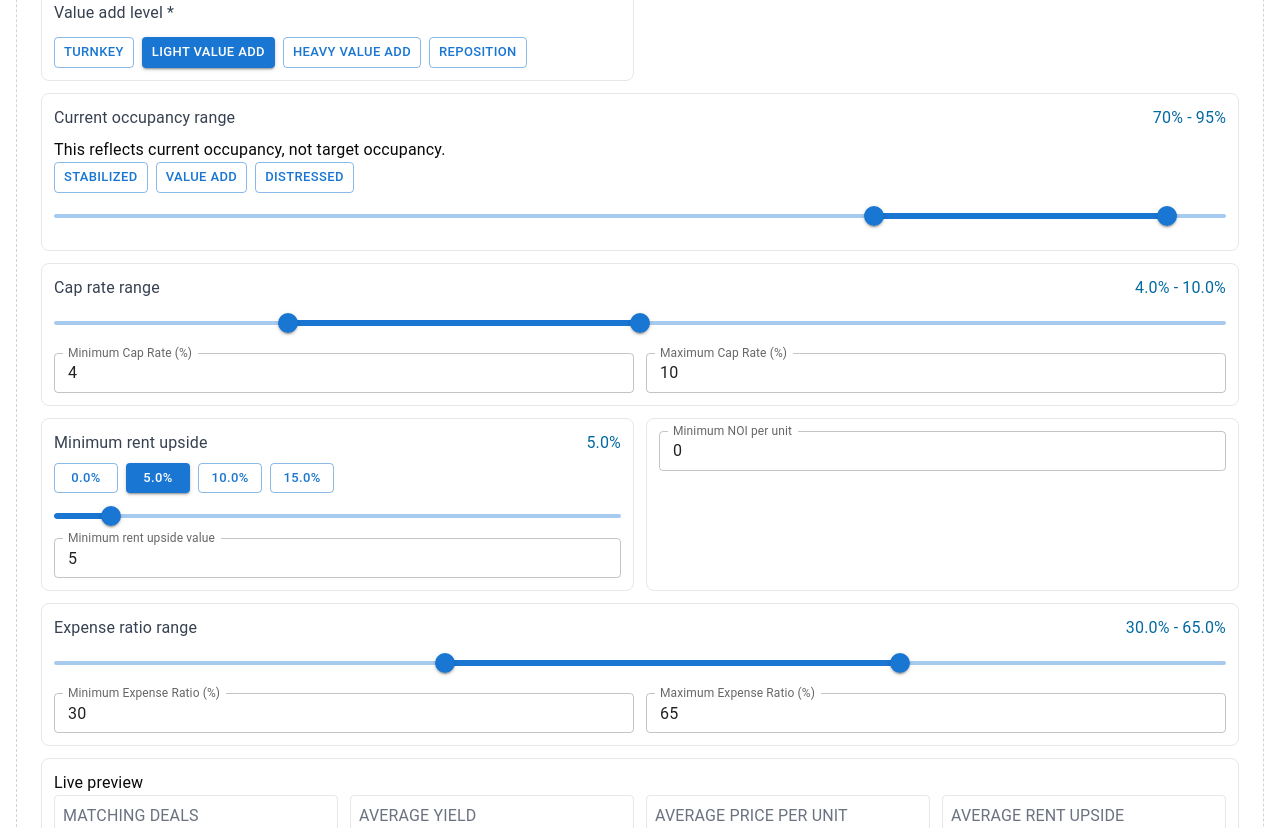
Test case: MultifamilyTabsSkeleton › retains filter values when switching tabs
The width and height of the screenshot is (1280, 828).
(page scrolled)
Replace the text in the number field labelled "Minimum NOI per unit" with "1200". click: point(942, 450)
box: 659,430 -> 1226,470
(page scrolled)
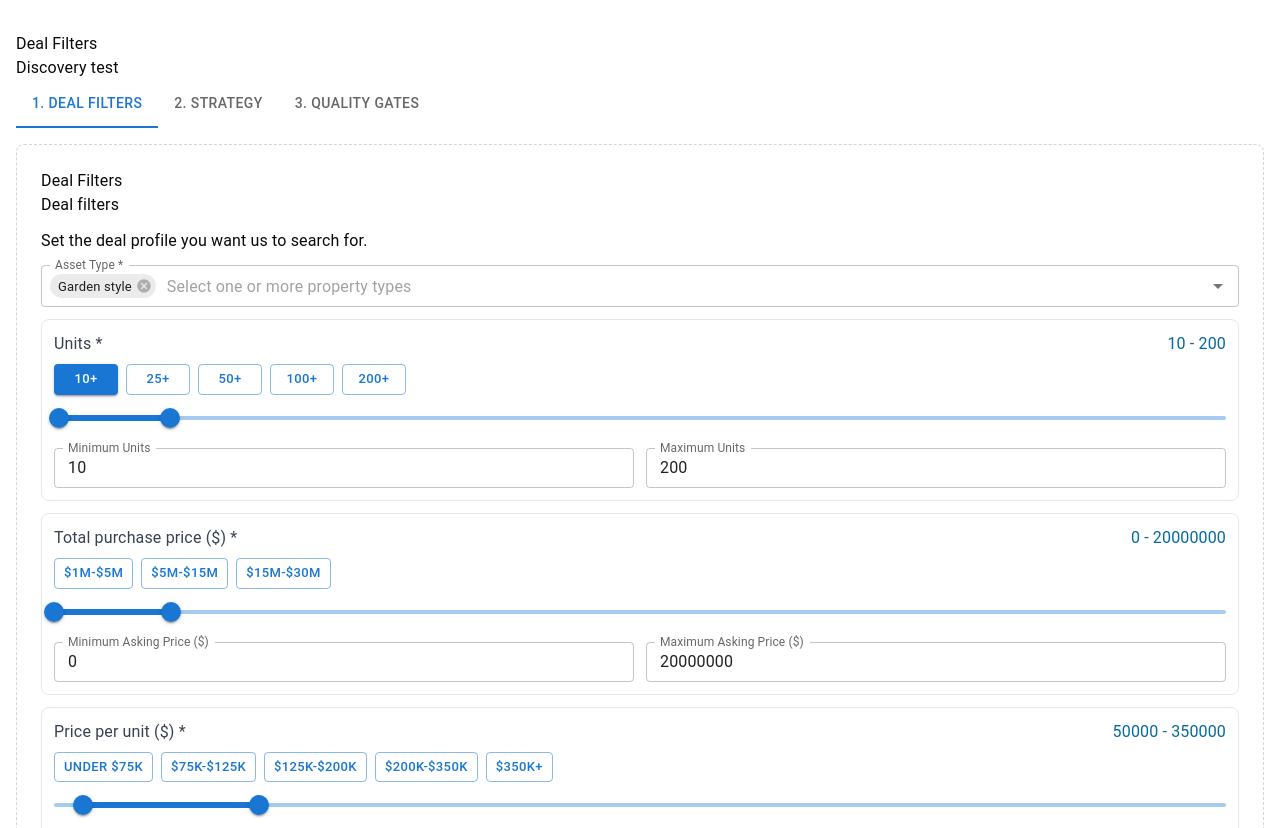
Click the tab "2. Strategy". click: point(219, 104)
box: 158,80 -> 279,128
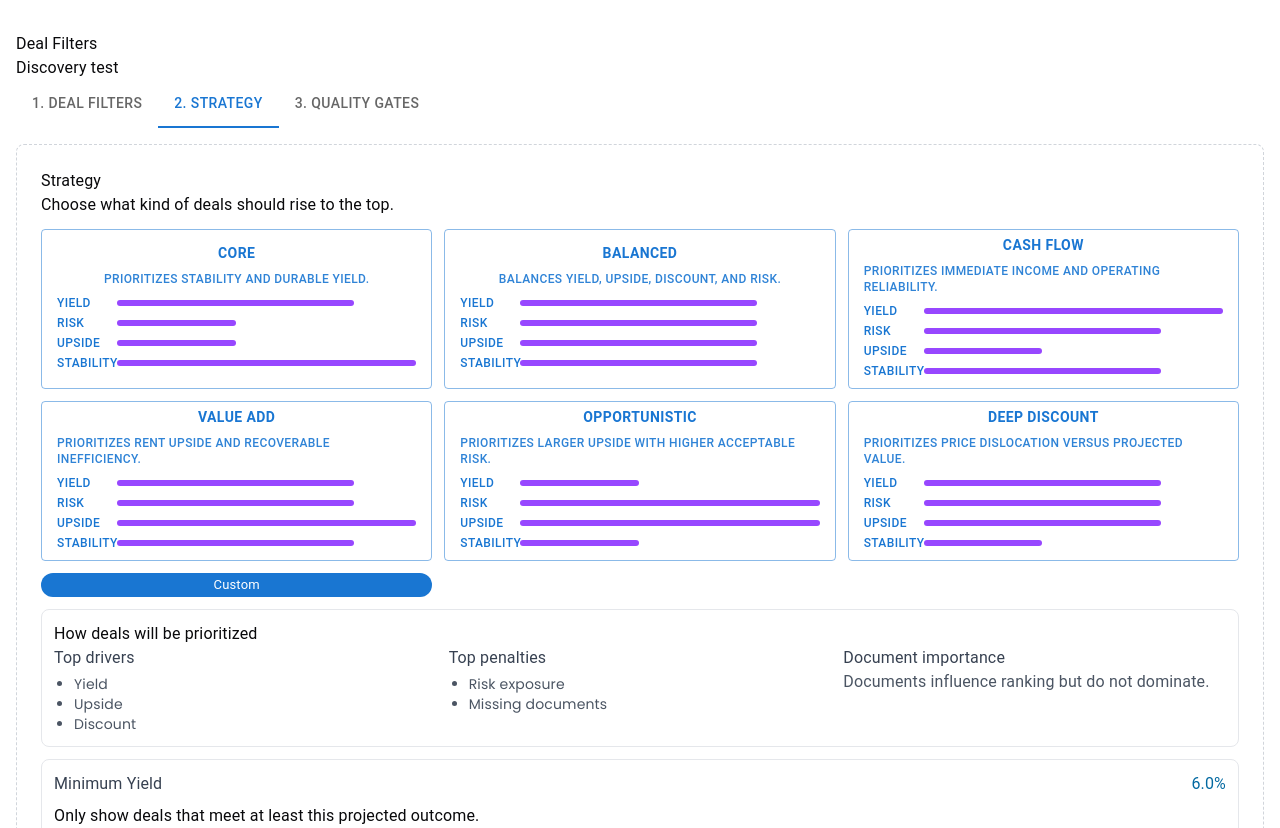
Click the tab "1. Deal Filters". click: point(87, 104)
box: 16,80 -> 158,128
(page scrolled)
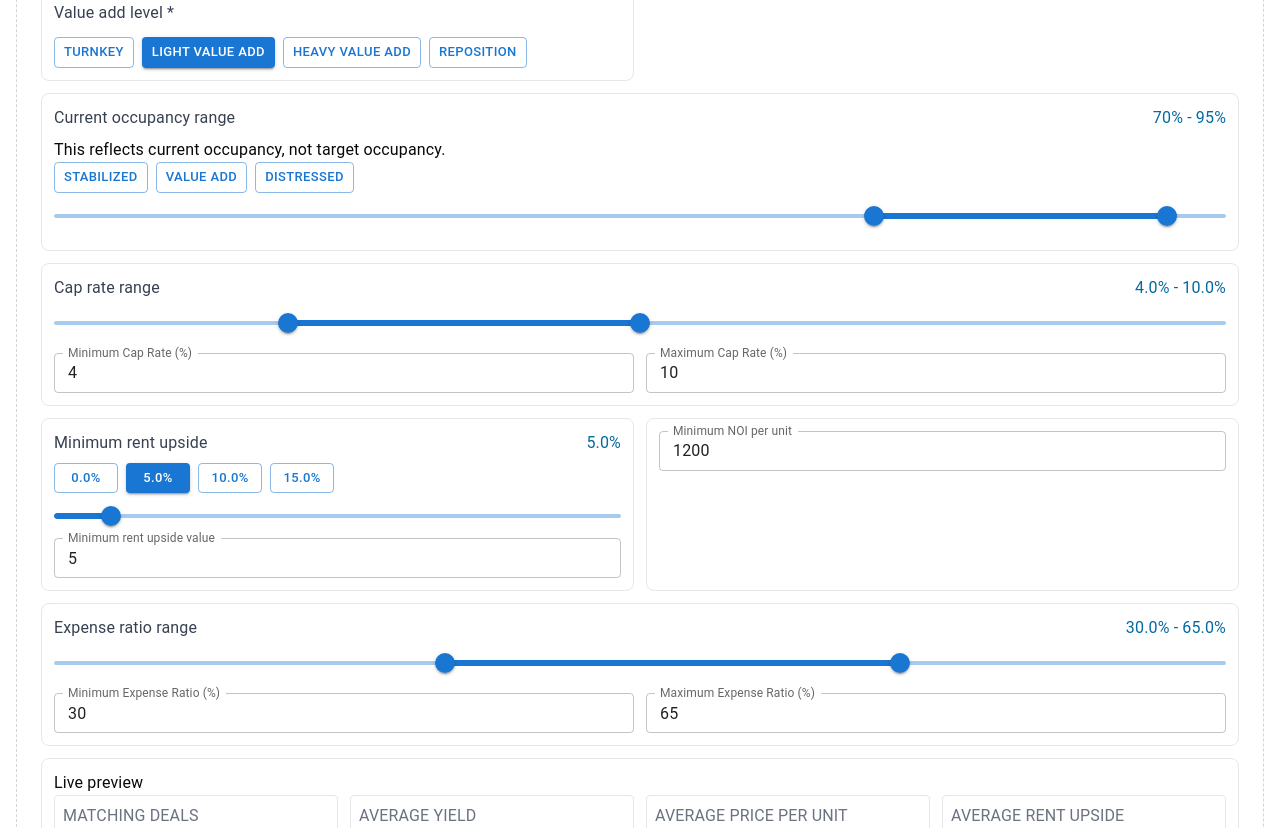
expect the number field labelled "Minimum NOI per unit" holds "1200": met, box 659,430 -> 1226,470
